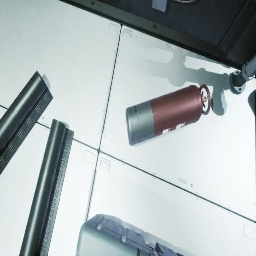NitrogenTank ,: (125, 84, 211, 146)
